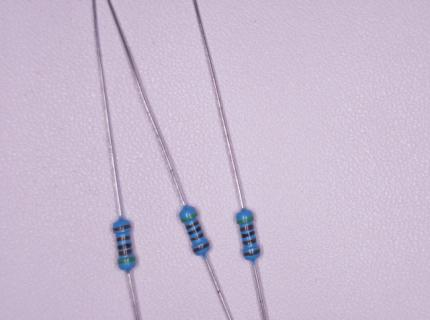Black band: (241, 230, 255, 238), (189, 226, 201, 235), (119, 243, 131, 249)
Brown band: (192, 242, 209, 253), (114, 224, 131, 231), (244, 249, 260, 256), (186, 220, 198, 229), (239, 224, 254, 231), (118, 249, 132, 256), (191, 233, 203, 241), (117, 235, 130, 242), (243, 238, 256, 245)
Green band: (182, 212, 197, 222), (238, 216, 253, 224), (119, 258, 135, 264)
